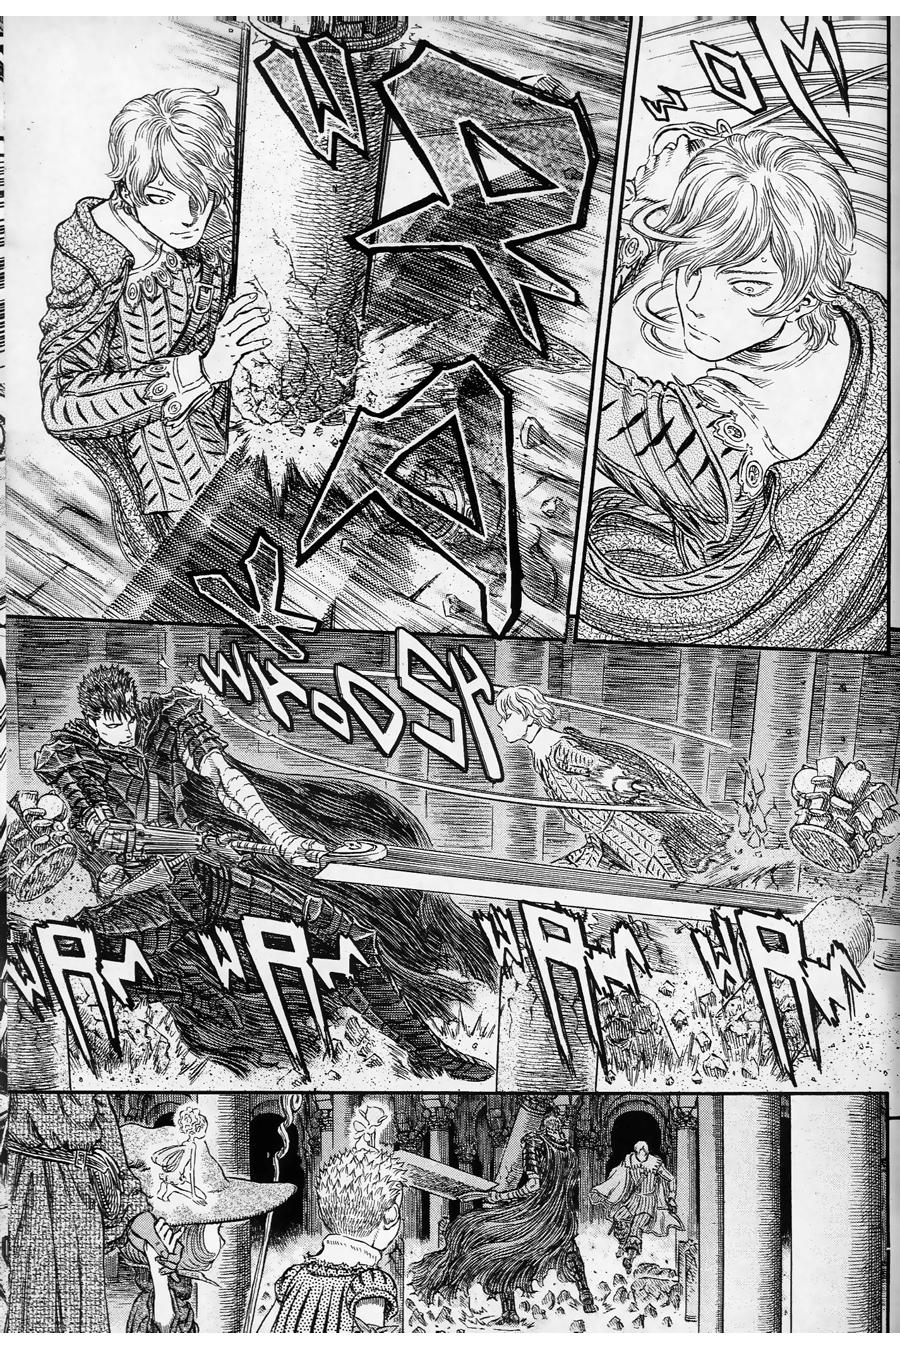Vignetta: (6, 619, 899, 1091), (2, 15, 634, 644), (4, 1091, 898, 1340), (575, 9, 889, 654)
